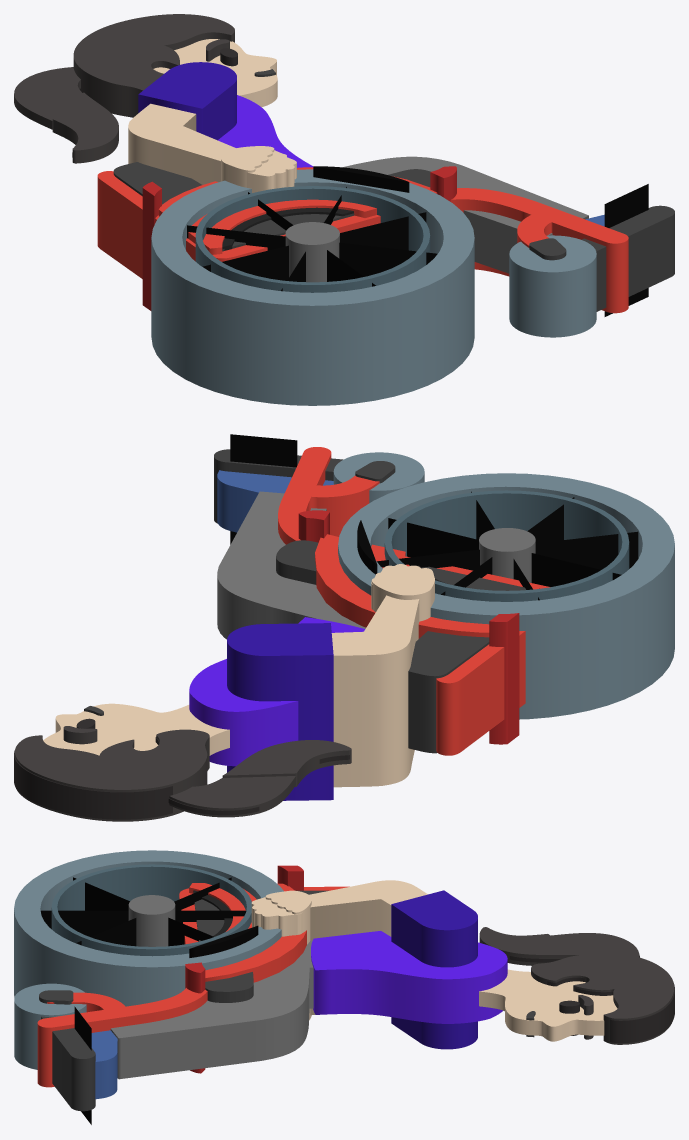
Rendered from emoji_u1f469_1f3fb_200d_1f9bd_200d_27a1.glb.
3 renders of one model, top to bottom at view 1: azimuth 30°, elevation 25°; view 2: azimuth 150°, elevation 25°; view 3: azimuth 270°, elevation 25°, orthographic. The views are drawn at different scales.
Parts seen in each view (by area): view 1: emoji_u1f469_1f3fb_200d_1f9bd_200d_27a1; view 2: emoji_u1f469_1f3fb_200d_1f9bd_200d_27a1; view 3: emoji_u1f469_1f3fb_200d_1f9bd_200d_27a1.
Boxes of the visible parts, left/top/right/bottom form: emoji_u1f469_1f3fb_200d_1f9bd_200d_27a1: left=14, top=14, right=674, bottom=405; emoji_u1f469_1f3fb_200d_1f9bd_200d_27a1: left=14, top=434, right=674, bottom=821; emoji_u1f469_1f3fb_200d_1f9bd_200d_27a1: left=14, top=850, right=674, bottom=1124.
Bounding box in the file's own units: 0.0221 × 0.0064 × 0.0322.
